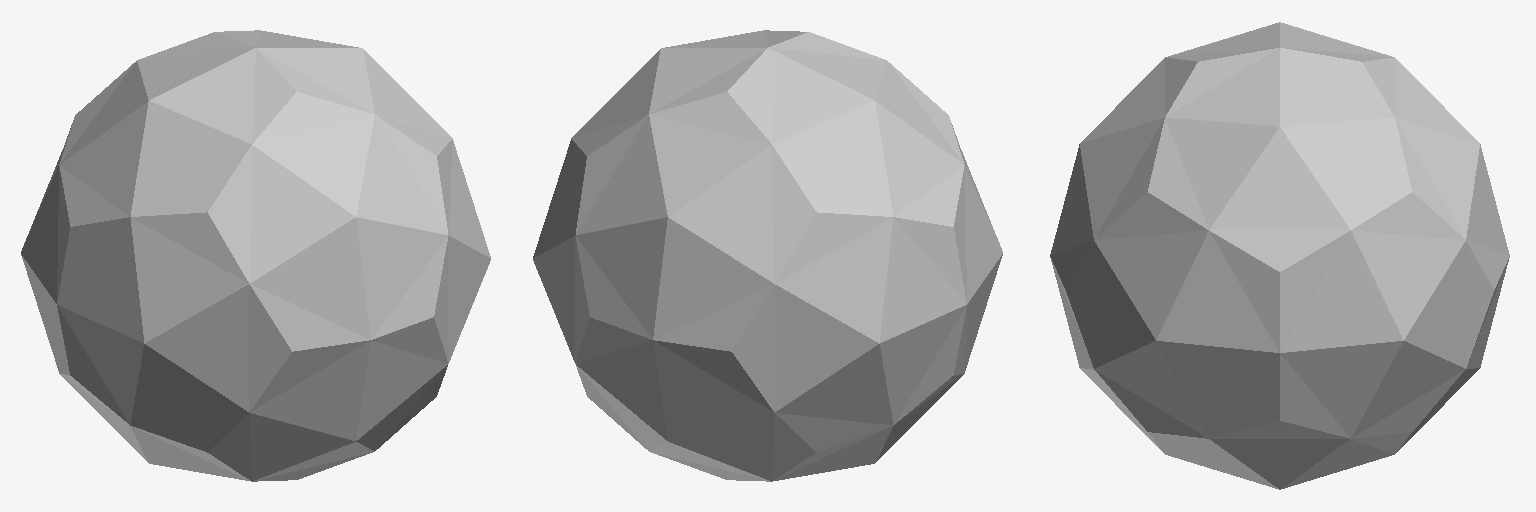
The model's file is moontest-03.obj.
3 renders of one model, left to right at view 1: azimuth 30°, elevation 25°; view 2: azimuth 150°, elevation 25°; view 3: azimuth 270°, elevation 25°, orthographic.
Visible parts, largest first — view 1: pSolid3; view 2: pSolid3; view 3: pSolid3.
Boxes of the visible parts, x1,y1,x2,y2 form: pSolid3: [21, 30, 490, 481]; pSolid3: [533, 30, 1002, 481]; pSolid3: [1050, 22, 1509, 489].
Size of the model in its own units: 0.6717 by 0.6717 by 0.6717.